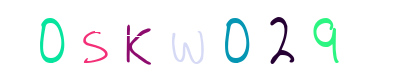0: (74, 0, 154, 80), (174, 0, 254, 80)
2: (196, 0, 276, 80)
9: (241, 0, 321, 80)
K: (140, 0, 220, 80)
S: (117, 0, 197, 80)
W: (157, 0, 237, 80)
